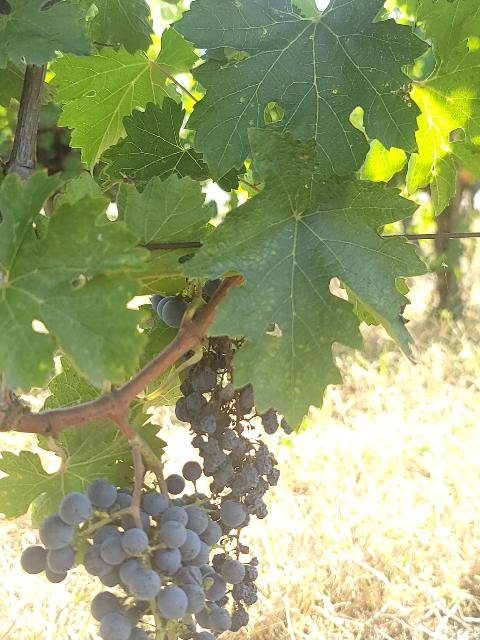grapes: (21, 479, 258, 640), (176, 339, 279, 518)
